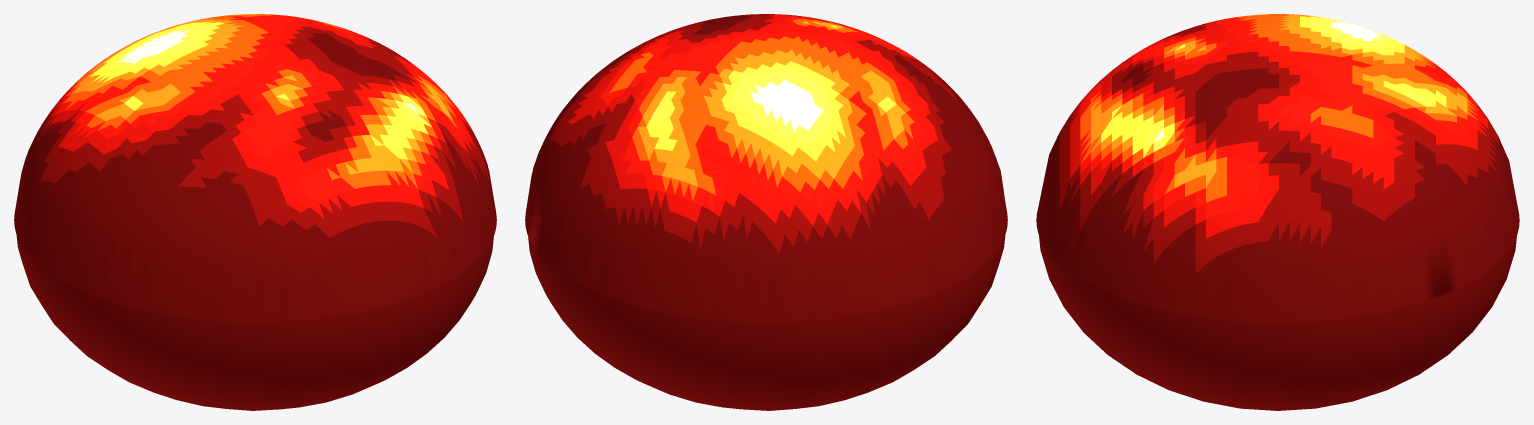
The model's file is warp_orb.glb.
3 renders of one model, left to right at view 1: azimuth 30°, elevation 25°; view 2: azimuth 150°, elevation 25°; view 3: azimuth 270°, elevation 25°, orthographic.
Visible parts, largest first — view 1: orb, orb_under; view 2: orb, orb_under; view 3: orb, orb_under.
Boxes of the visible parts, x1,y1,x2,y2 form: orb: (14,14,496,322); orb_under: (16,235,493,410); orb: (525,14,1007,322); orb_under: (528,235,1005,410); orb: (1036,14,1519,322); orb_under: (1039,236,1516,410).
Bounding box in the file's own units: 20.8 × 16.2 × 20.8.
